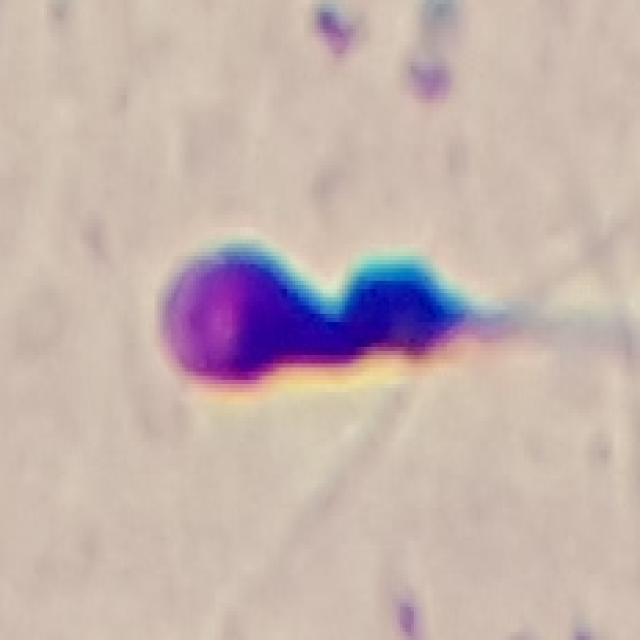abnormal sperm: (149, 223, 591, 397)
